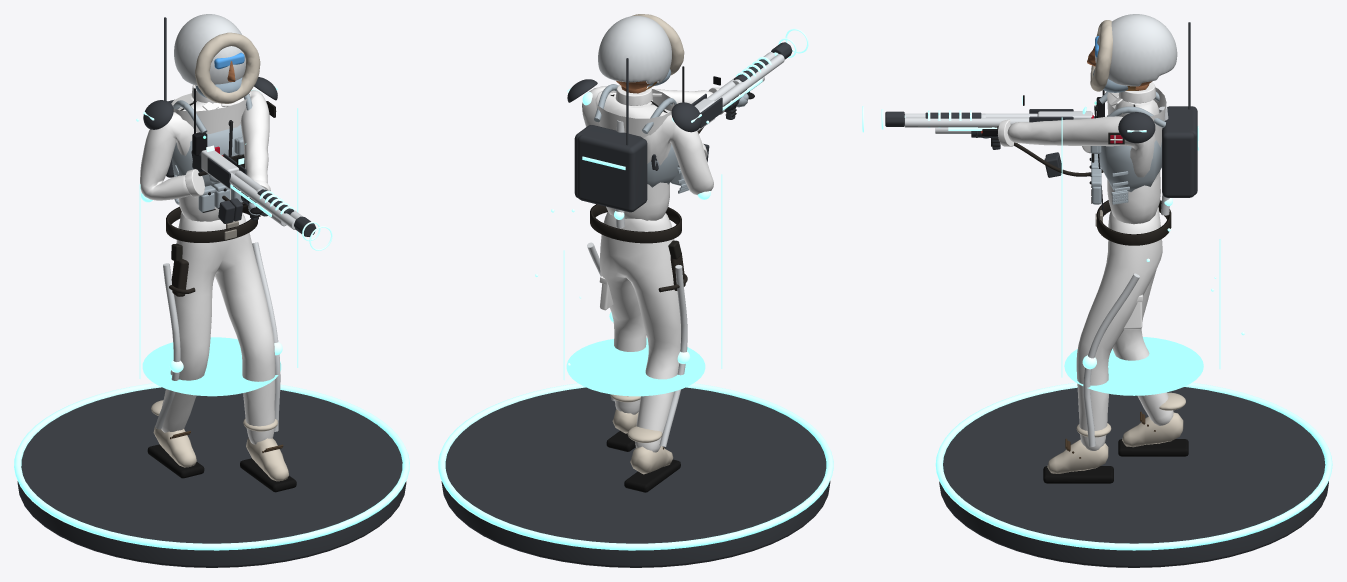
File: hagl_arktis.glb
3 views of the same model, side by side, from view 1: azimuth 30°, elevation 25°; view 2: azimuth 150°, elevation 25°; view 3: azimuth 270°, elevation 25° (orthographic).
Visible parts, largest first — view 1: fod_net, menneske_net, hoved_net, op1.001_net, op4.001_net, op4_net, vaaben_net, op3_net, op3.001_net, op4.002_net; view 2: fod_net, menneske_net, op4_net, op4.001_net, hoved_net, op1.001_net, vaaben_net, op3_net, op3.001_net, op4.002_net, ned4_net; view 3: fod_net, menneske_net, hoved_net, op4.001_net, op1.001_net, ned4_net, op4_net, vaaben_net, op3_net, op3.001_net.
Boxes of the visible parts, bbox=[...] form: fod_net: bbox=[14, 383, 409, 567]; menneske_net: bbox=[140, 85, 296, 492]; hoved_net: bbox=[174, 14, 260, 103]; op1.001_net: bbox=[166, 88, 257, 296]; op4.001_net: bbox=[136, 108, 298, 396]; op4_net: bbox=[141, 89, 282, 431]; vaaben_net: bbox=[191, 149, 303, 229]; op3_net: bbox=[143, 17, 277, 129]; op3.001_net: bbox=[206, 145, 316, 236]; op4.002_net: bbox=[218, 184, 332, 250]; fod_net: bbox=[438, 383, 833, 567]; menneske_net: bbox=[582, 85, 754, 492]; op4_net: bbox=[577, 92, 710, 446]; op4.001_net: bbox=[535, 120, 722, 396]; hoved_net: bbox=[598, 14, 684, 90]; op1.001_net: bbox=[590, 66, 687, 292]; vaaben_net: bbox=[651, 52, 784, 170]; op3_net: bbox=[567, 58, 701, 145]; op3.001_net: bbox=[691, 42, 792, 128]; op4.002_net: bbox=[704, 28, 808, 161]; ned4_net: bbox=[574, 125, 688, 198]; fod_net: bbox=[935, 382, 1332, 567]; menneske_net: bbox=[981, 82, 1188, 483]; hoved_net: bbox=[1087, 14, 1177, 92]; op4.001_net: bbox=[1061, 117, 1244, 395]; op1.001_net: bbox=[1089, 90, 1171, 245]; ned4_net: bbox=[1112, 108, 1195, 201]; op4_net: bbox=[1082, 106, 1198, 446]; vaaben_net: bbox=[904, 111, 1096, 137]; op3_net: bbox=[1118, 22, 1190, 143]; op3.001_net: bbox=[885, 106, 1086, 126].
Bounding box in the file's own units: 1.94 × 2.53 × 2.29.
